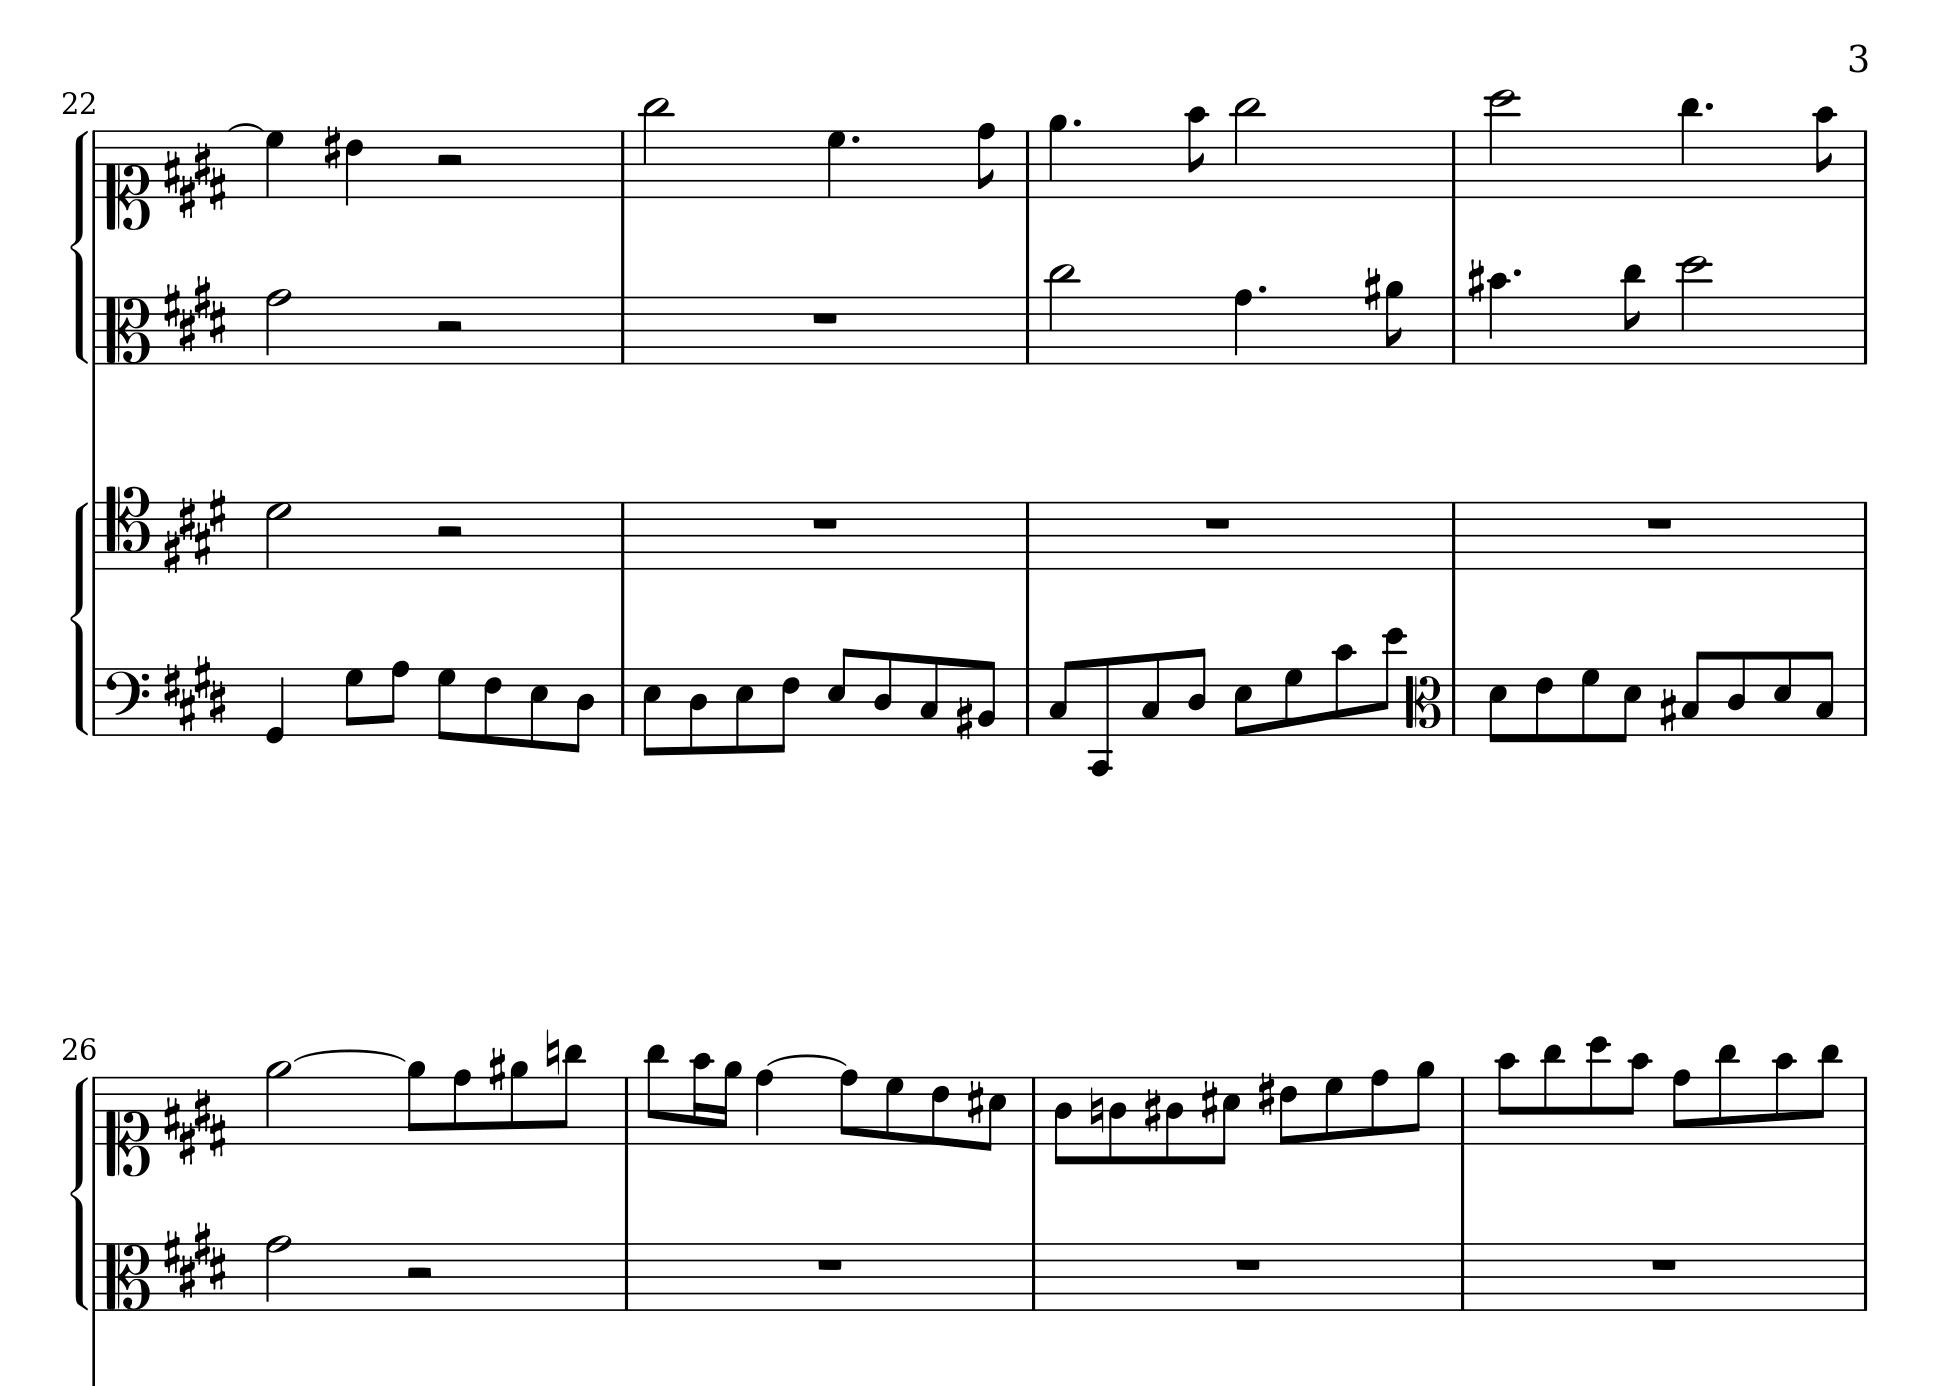16_10: (690, 1050, 715, 1144)
16_5: (984, 1075, 1008, 1150)
16_9: (718, 1059, 742, 1146)
2: (60, 1035, 79, 1062), (78, 88, 96, 115), (60, 90, 78, 115)
2_11: (1231, 96, 1263, 199), (640, 96, 670, 199), (1047, 262, 1077, 366)
2_12: (1678, 253, 1711, 367), (1486, 87, 1518, 201)
2_7: (264, 498, 292, 568)
2_8: (264, 1231, 292, 1312), (264, 286, 289, 366)
2_9: (264, 1057, 292, 1147)
3: (1848, 40, 1870, 73)
4_0: (265, 664, 288, 744)
4_10: (1485, 270, 1512, 367)
4_11: (1678, 94, 1702, 199)
4_6: (343, 127, 364, 207)
4_7: (262, 129, 285, 199), (826, 129, 847, 199)
4_8: (1233, 286, 1254, 366), (754, 1066, 775, 1144)
4_9: (1047, 112, 1068, 199)
6: (79, 1035, 97, 1060)
8_-4: (1089, 655, 1113, 777)
8_10: (1624, 1051, 1653, 1147), (1494, 1051, 1521, 1146), (1771, 1050, 1797, 1146), (1332, 642, 1356, 736), (1813, 103, 1836, 199), (1186, 105, 1209, 199)
8_11: (556, 1039, 585, 1146), (1815, 1042, 1843, 1146), (1540, 1041, 1566, 1146), (1621, 261, 1645, 367), (643, 1041, 667, 1146), (1716, 1041, 1740, 1146)
8_12: (1377, 625, 1407, 738), (1587, 1033, 1611, 1147)
8_2: (978, 658, 999, 738)
8_3: (1681, 649, 1711, 736), (1048, 658, 1074, 736), (1140, 651, 1162, 738), (918, 654, 940, 738), (1816, 648, 1837, 736)
8_4: (568, 666, 595, 754), (687, 664, 709, 757), (1054, 1072, 1077, 1165), (871, 649, 894, 738), (1188, 646, 1209, 738), (1165, 1074, 1186, 1165), (1728, 649, 1749, 736), (1108, 1072, 1128, 1164)
8_5: (1213, 1072, 1243, 1165), (826, 646, 853, 738), (1615, 666, 1644, 745), (640, 664, 661, 757), (733, 664, 754, 756), (1773, 648, 1794, 736), (528, 664, 549, 751), (1488, 666, 1509, 745), (1233, 666, 1254, 739)
8_6: (772, 666, 801, 754), (1278, 1074, 1302, 1147), (481, 664, 502, 747), (1533, 666, 1554, 745), (930, 1075, 952, 1147)
8_7: (1578, 666, 1602, 744), (1323, 1074, 1347, 1146), (883, 1075, 907, 1144), (1282, 664, 1305, 736), (436, 666, 457, 742), (343, 666, 364, 736)
8_8: (379, 658, 409, 738), (838, 1066, 862, 1144), (451, 1066, 474, 1147), (1671, 1066, 1693, 1147), (1369, 1066, 1392, 1146), (976, 121, 997, 199)
8_9: (1410, 1057, 1437, 1144), (1383, 279, 1405, 367), (508, 1059, 531, 1147), (406, 1059, 427, 1146)
Brace: (69, 496, 90, 736), (69, 1072, 88, 1312), (69, 126, 88, 364)
Cclef: (103, 483, 151, 568), (102, 295, 151, 367), (102, 1242, 151, 1312), (1404, 666, 1443, 736)
E_S: (160, 486, 228, 574), (160, 133, 228, 217), (160, 1084, 228, 1165), (162, 652, 228, 733), (162, 273, 226, 354), (162, 1219, 226, 1300)
Fclef: (105, 666, 150, 738)
Natural: (541, 1027, 561, 1077), (1089, 1084, 1105, 1132)
Rests1: (1231, 1251, 1266, 1273), (813, 1252, 847, 1273), (1647, 1252, 1680, 1273), (808, 513, 841, 532), (1201, 513, 1234, 532), (1644, 513, 1677, 532), (808, 307, 841, 325)
Rests2: (433, 150, 466, 171), (433, 316, 466, 334), (433, 522, 466, 540), (403, 1264, 435, 1279)
Sharp: (486, 1042, 507, 1093), (1464, 256, 1485, 304), (1257, 1068, 1278, 1116), (1363, 264, 1383, 312), (966, 1077, 985, 1123), (955, 694, 973, 742), (1659, 685, 1677, 733), (1200, 1077, 1218, 1123), (1146, 1086, 1162, 1132)
Single_barline: (613, 501, 631, 570), (1446, 129, 1464, 196), (1020, 295, 1038, 363), (613, 667, 631, 733), (1026, 1074, 1042, 1144), (615, 129, 631, 198), (1446, 501, 1462, 570), (618, 1075, 634, 1144), (1455, 1075, 1471, 1144), (1026, 1240, 1042, 1309), (1020, 130, 1036, 198), (87, 501, 103, 568), (87, 130, 103, 196), (87, 1077, 103, 1143), (1020, 499, 1035, 571), (1020, 664, 1035, 736), (1857, 501, 1872, 571), (1857, 666, 1872, 736), (1857, 1240, 1872, 1311), (1446, 295, 1461, 364), (1857, 295, 1872, 364), (615, 295, 630, 364), (88, 1240, 103, 1309), (619, 1240, 634, 1309), (1455, 1240, 1470, 1309), (88, 667, 103, 735), (1446, 667, 1461, 733), (1858, 1074, 1872, 1144), (1858, 129, 1872, 198), (88, 295, 102, 364)
Slur: (292, 1047, 406, 1062), (765, 1051, 849, 1066), (228, 121, 264, 132)
Soprano_Cclef: (105, 1074, 151, 1177), (103, 127, 148, 229)
dot: (1512, 264, 1525, 280), (1071, 115, 1084, 130), (1257, 280, 1269, 295), (849, 132, 861, 144), (1704, 99, 1714, 112)
